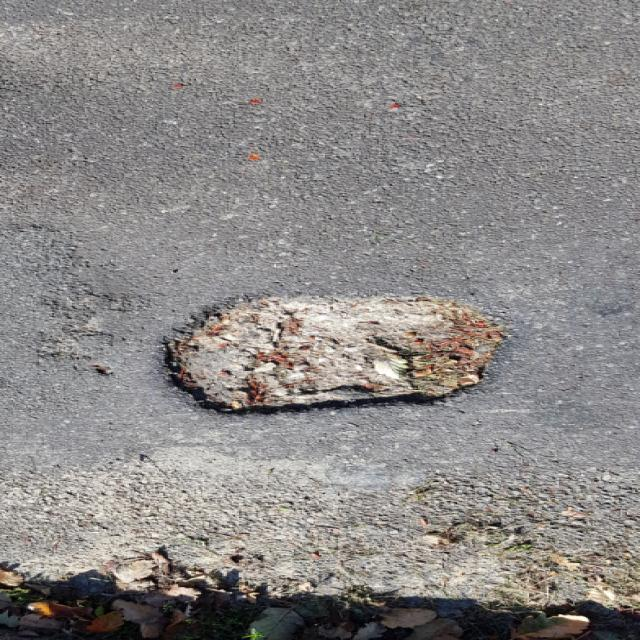pothole: (160, 286, 518, 420)
